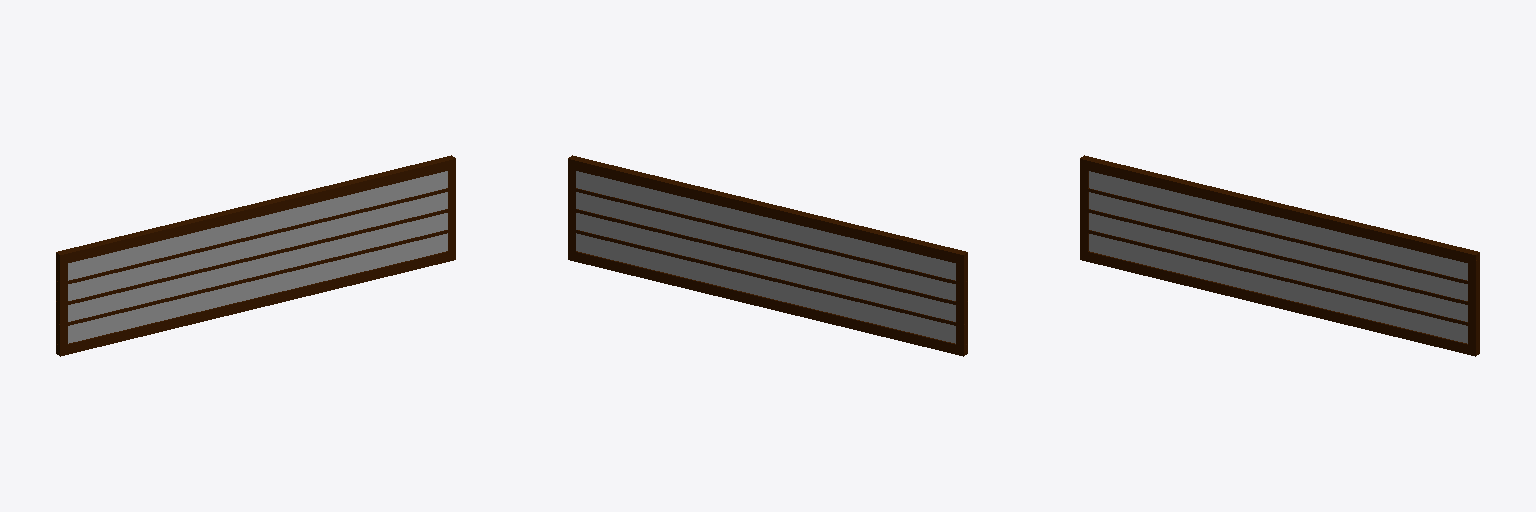
File: eaves.obj
3 renders of one model, left to right at view 1: azimuth 30°, elevation 25°; view 2: azimuth 150°, elevation 25°; view 3: azimuth 330°, elevation 25°, orthographic.
Parts seen in each view (by area): view 1: Cube.007; view 2: Cube.007; view 3: Cube.007.
Part boxes in pixels (bbox=[...]): Cube.007: bbox=[56, 155, 455, 356]; Cube.007: bbox=[568, 155, 967, 356]; Cube.007: bbox=[1080, 155, 1479, 356].
Size of the model in its own units: 10 by 2.44 by 0.2.